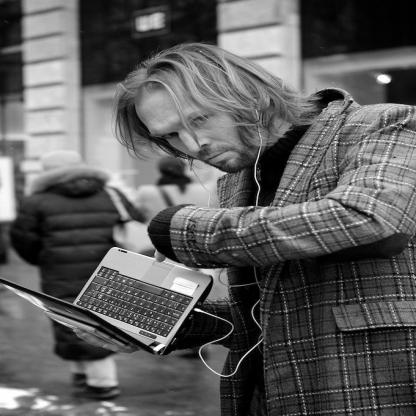board: (0, 244, 213, 356)
